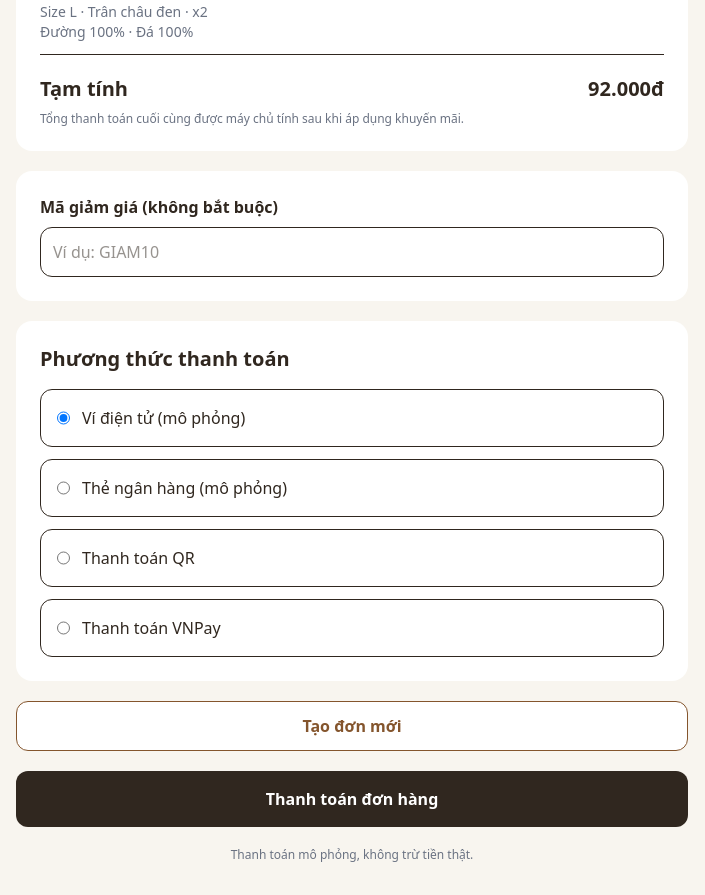
Test: Checkout - xu ly don hang cu › 400: xoa don het han, giu gio va tao don moi
(page scrolled)
Click the button "Thanh toán đơn hàng" at (352, 799), box 16,771 -> 688,827
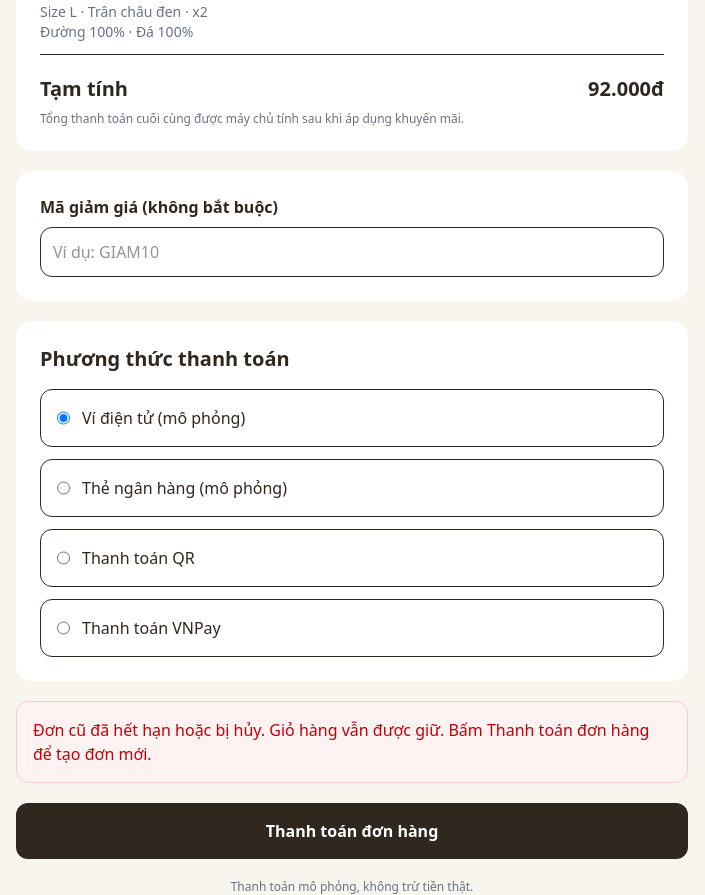
Now the text "Đơn cũ đã hết hạn" is shown, box 33,719 -> 650,765
Click the button "Thanh toán đơn hàng" at (352, 831), box 16,803 -> 688,859
(page scrolled)
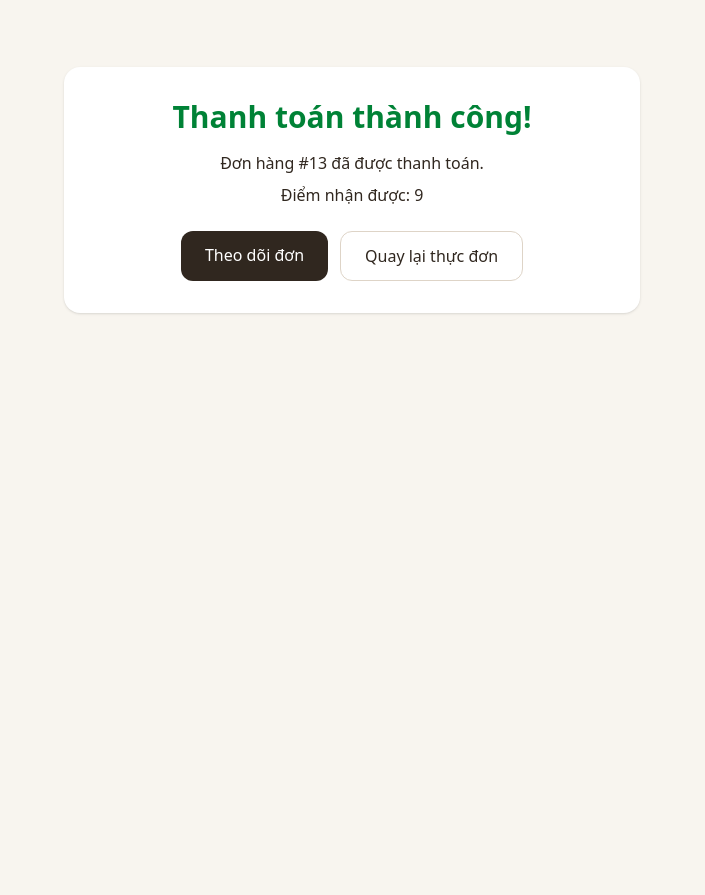
Now the heading "Thanh toán thành công!" is shown, box 172,96 -> 532,137
Now the text "Đơn hàng #13 đã được thanh toán." is shown, box 220,152 -> 484,174
